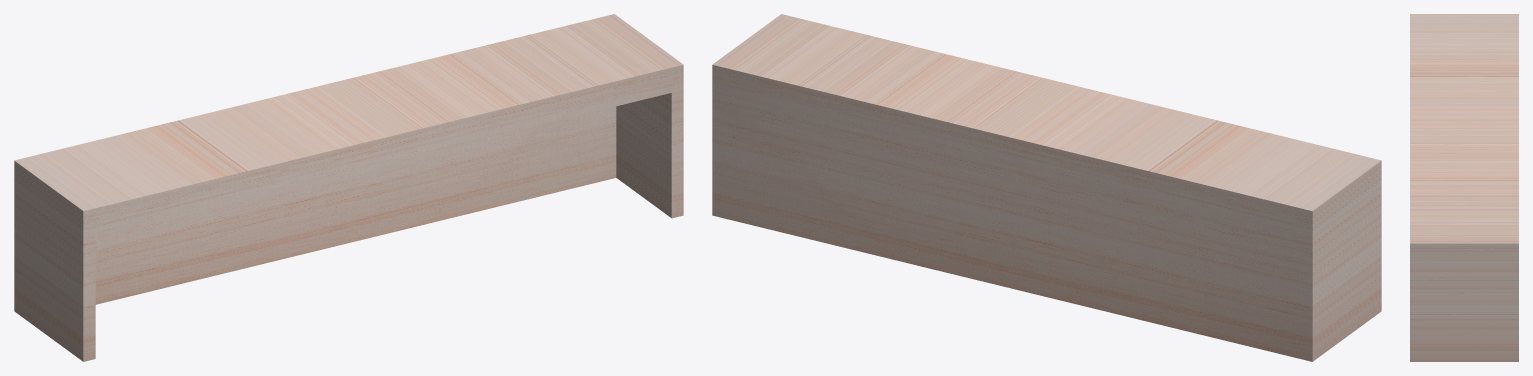
Rendered from Furniture_Makeupdesk.fbx.
3 renders of one model, left to right at view 1: azimuth 30°, elevation 25°; view 2: azimuth 150°, elevation 25°; view 3: azimuth 270°, elevation 25°, orthographic. The views are drawn at different scales.
Parts seen in each view (by area): view 1: pCube1; view 2: pCube1; view 3: pCube1.
Part boxes in pixels (left/top/right/bottom): pCube1: left=14, top=14, right=683, bottom=361; pCube1: left=712, top=14, right=1381, bottom=361; pCube1: left=1410, top=14, right=1518, bottom=361.
Size of the model in its own units: 250 by 60 by 50.
Materials: 1 (1 with a texture image).
